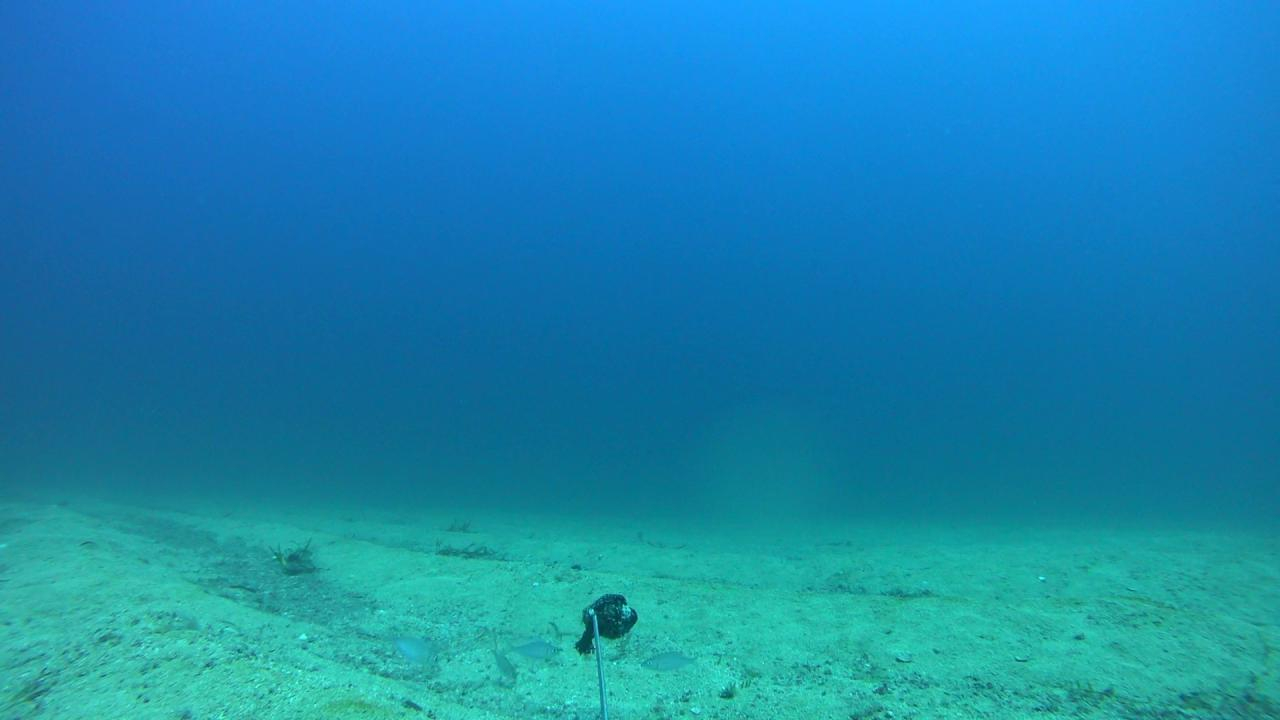pagellus: (374, 629, 442, 668), (638, 648, 701, 673), (503, 639, 562, 660), (486, 646, 515, 678)
